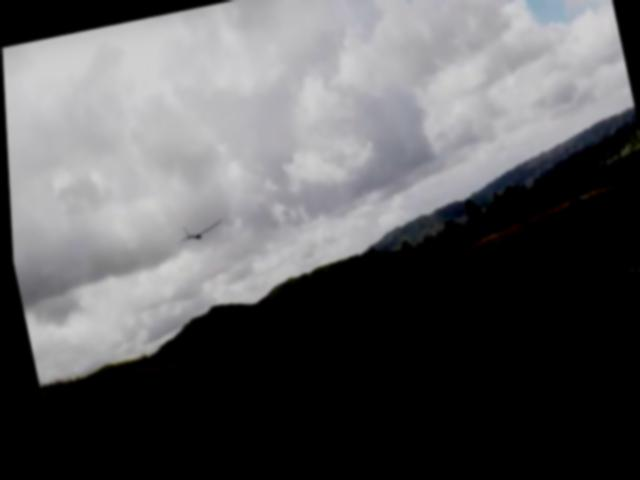iha: (170, 219, 222, 249)
